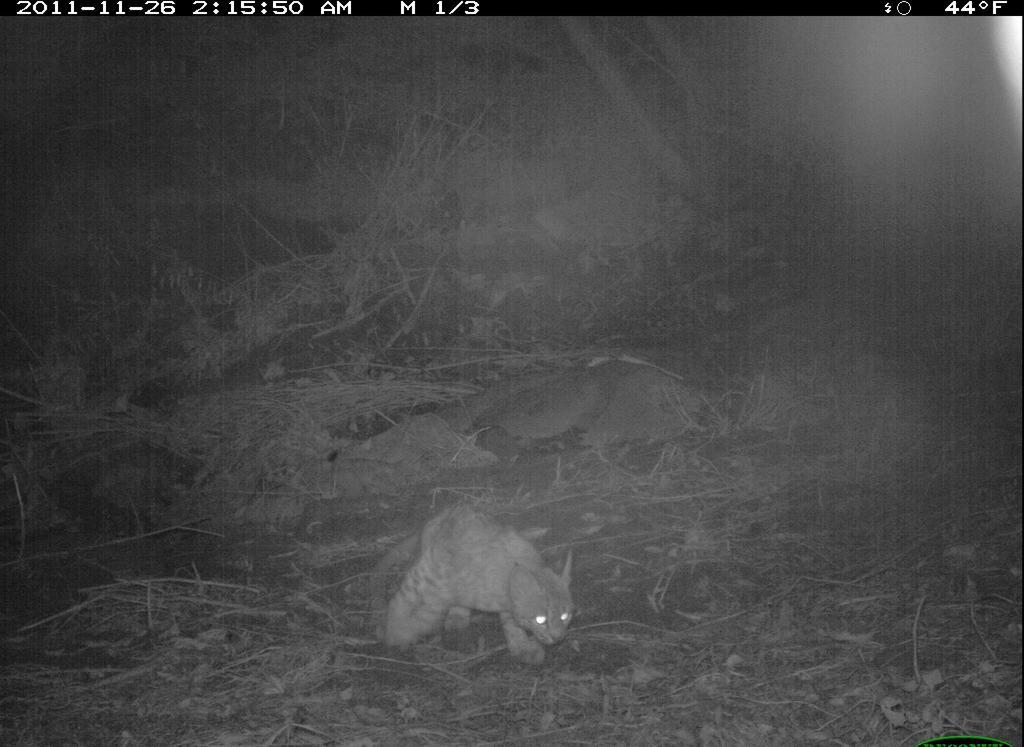bobcat: (370, 497, 591, 671)
